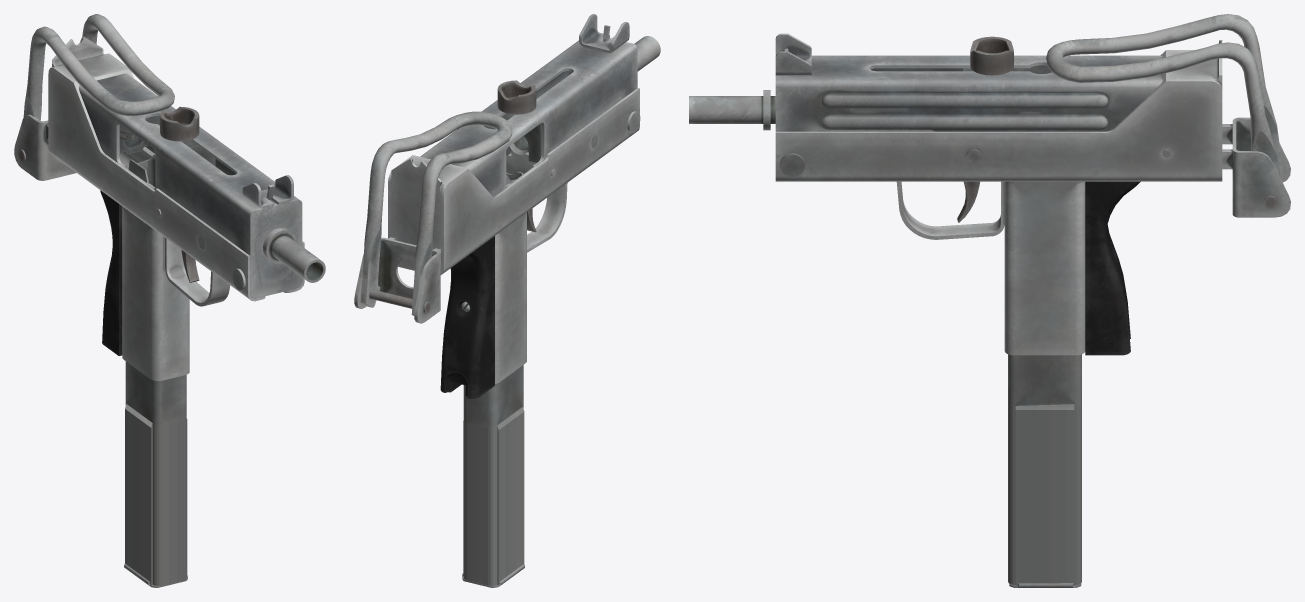
File: m15noanim.glb
3 renders of one model, left to right at view 1: azimuth 30°, elevation 25°; view 2: azimuth 150°, elevation 25°; view 3: azimuth 270°, elevation 25°, orthographic. The views are drawn at different scales.
Visible parts, largest first — view 1: Root, Mag_Material.001_0, Stock Frame_Material.001_0, Stock Arm_Material.001_0, Bolt_Material.001_0; view 2: Root, Mag_Material.001_0, Stock Frame_Material.001_0, Stock Arm_Material.001_0, Bolt_Material.001_0; view 3: Root, Mag_Material.001_0, Stock Frame_Material.001_0, Stock Arm_Material.001_0, Bolt_Material.001_0.
Part boxes in pixels (x1=…): Root: x1=48, y1=36, x2=325, y2=380; Mag_Material.001_0: x1=124, y1=154, x2=187, y2=587; Stock Frame_Material.001_0: x1=23, y1=14, x2=174, y2=120; Stock Arm_Material.001_0: x1=14, y1=114, x2=154, y2=180; Bolt_Material.001_0: x1=119, y1=106, x2=215, y2=166; Root: x1=388, y1=14, x2=660, y2=398; Mag_Material.001_0: x1=462, y1=171, x2=524, y2=587; Stock Frame_Material.001_0: x1=360, y1=111, x2=512, y2=315; Stock Arm_Material.001_0: x1=354, y1=152, x2=528, y2=323; Bolt_Material.001_0: x1=483, y1=80, x2=541, y2=162; Root: x1=689, y1=33, x2=1222, y2=355; Mag_Material.001_0: x1=1008, y1=354, x2=1081, y2=587; Stock Frame_Material.001_0: x1=1046, y1=14, x2=1283, y2=179; Stock Arm_Material.001_0: x1=1222, y1=117, x2=1290, y2=217; Bolt_Material.001_0: x1=963, y1=36, x2=1051, y2=75.
Size of the model in its own units: 0.6856 by 4.76 by 4.72.
1 material, 1 textured.
